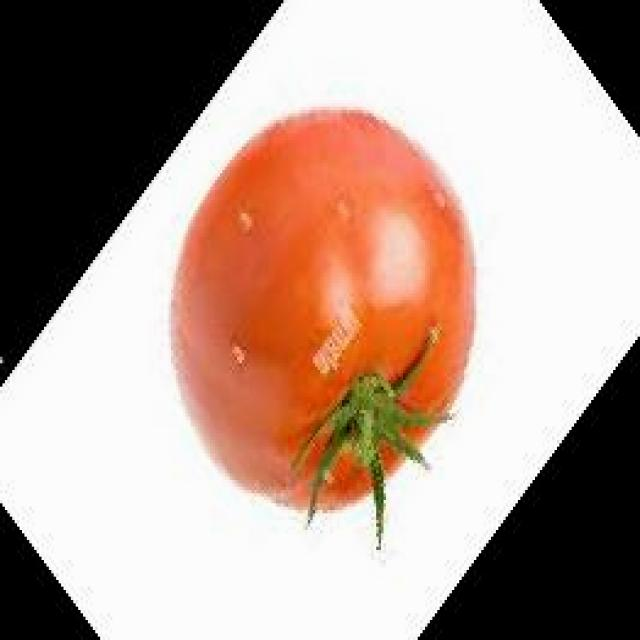tomato: (164, 105, 476, 525)
